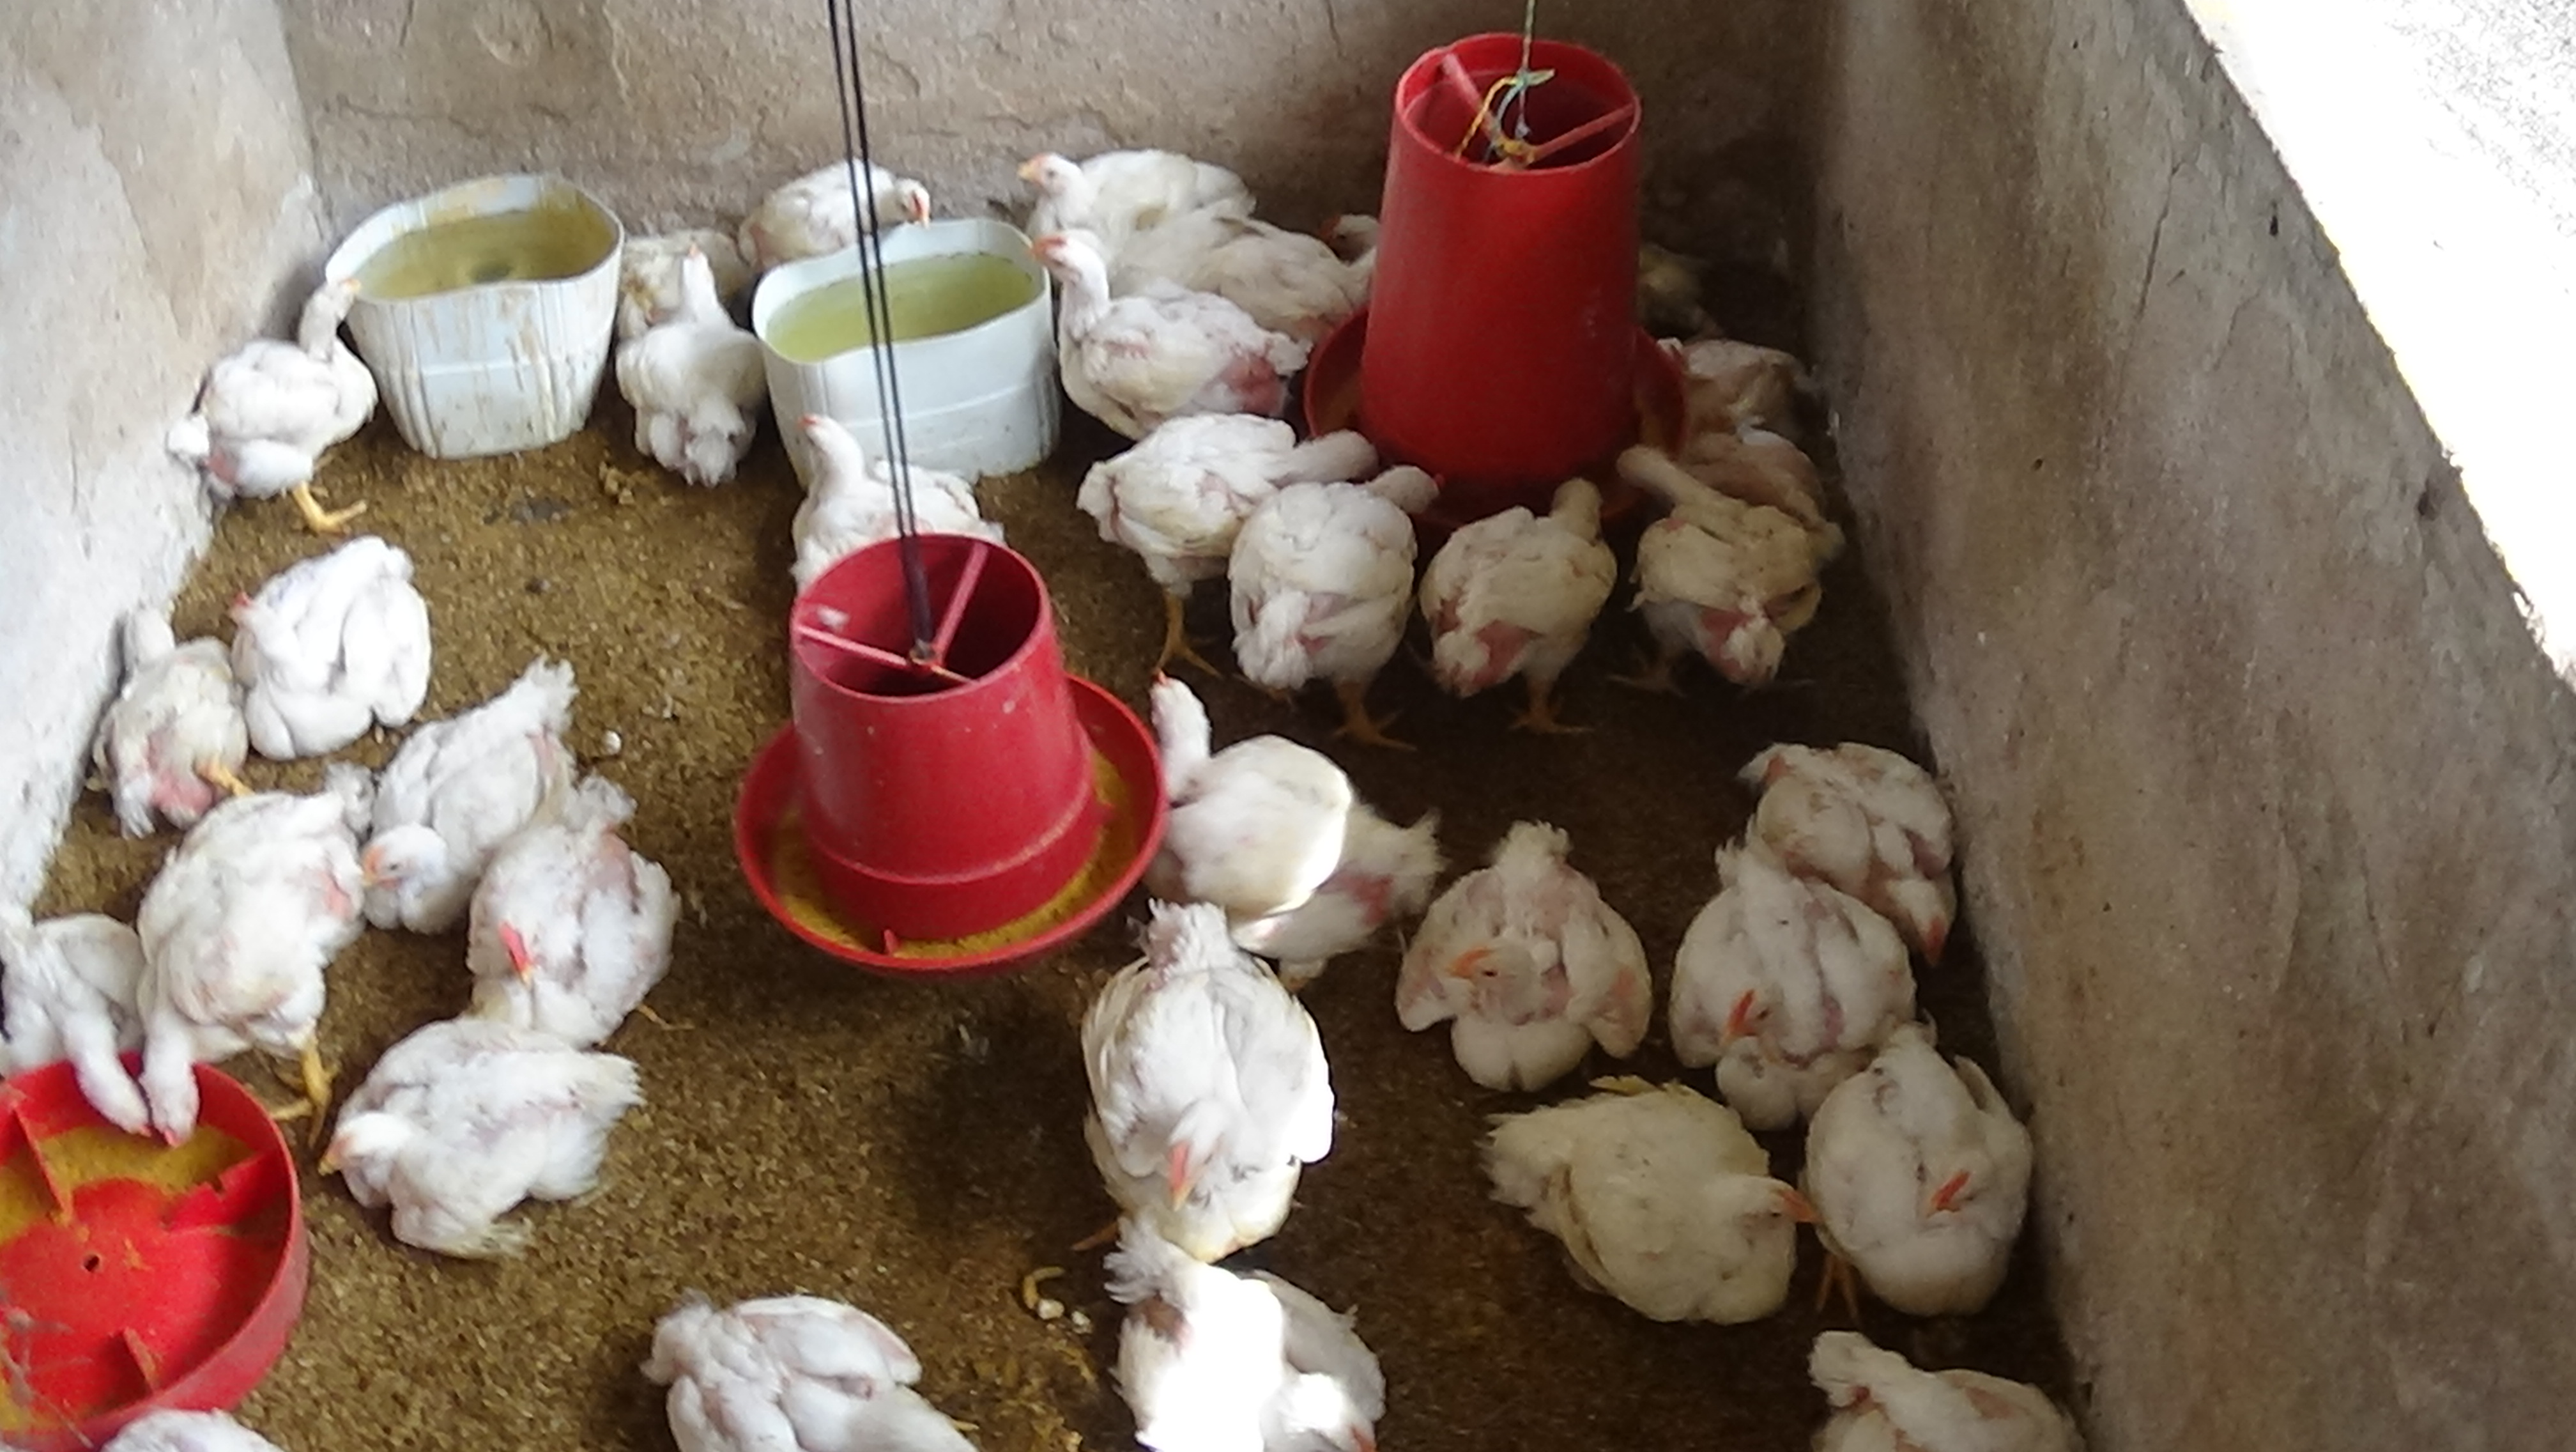Pollos: (1122, 653, 1453, 960), (301, 1011, 651, 1273), (156, 763, 386, 1151), (1799, 1006, 2058, 1342), (1070, 908, 1329, 1243), (1054, 386, 1368, 653), (1477, 1073, 1808, 1325), (609, 1254, 1007, 1452), (1389, 811, 1656, 1091), (1097, 1218, 1410, 1450), (1672, 845, 1923, 1128), (363, 653, 602, 951), (462, 751, 688, 1055), (1228, 441, 1435, 747), (1021, 212, 1300, 434), (1619, 407, 1838, 689), (1750, 708, 1994, 942), (182, 276, 389, 535), (1435, 459, 1622, 744), (232, 526, 448, 760), (770, 411, 1007, 616), (1778, 1307, 2093, 1452), (1000, 122, 1267, 292), (88, 577, 255, 839), (718, 142, 966, 312), (9, 859, 143, 1169), (623, 250, 766, 496)
